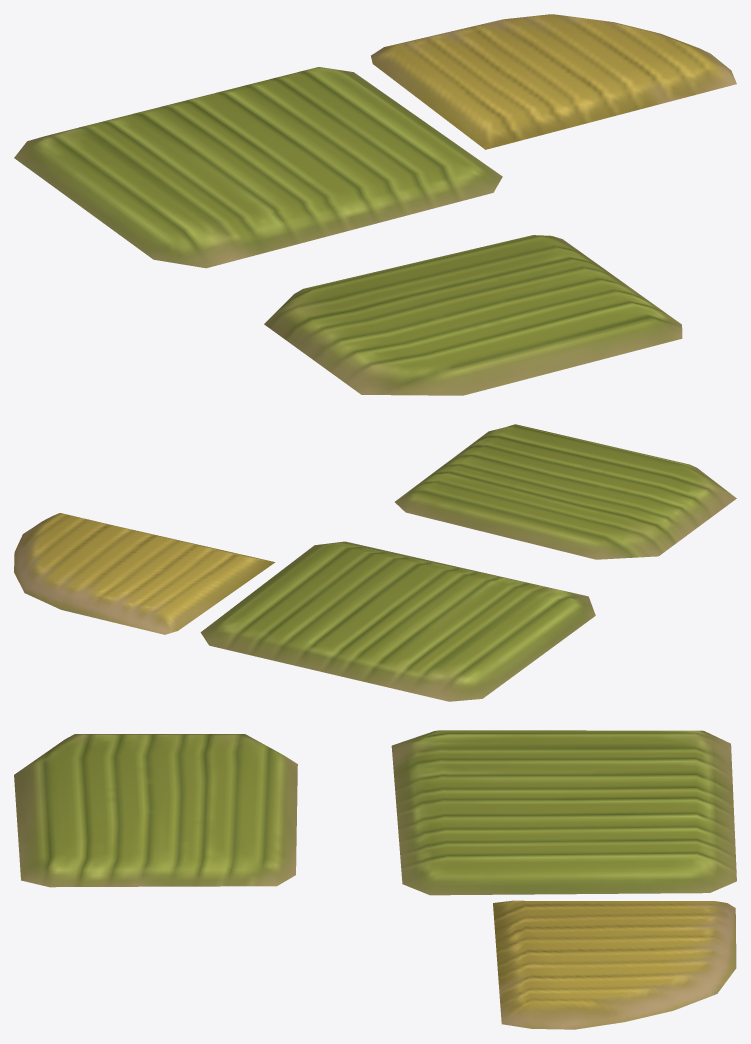
File: field_ground_0017.fbx
The picture shows the model from 3 angles, top to bottom: view 1: azimuth 30°, elevation 25°; view 2: azimuth 150°, elevation 25°; view 3: azimuth 270°, elevation 25°; orthographic projection. The views are drawn at different scales.
Parts seen in each view (by area): view 1: field_ground_0017; view 2: field_ground_0017; view 3: field_ground_0017.
Boxes of the visible parts, x1,y1,x2,y2 form: field_ground_0017: [14, 14, 736, 395]; field_ground_0017: [14, 424, 736, 701]; field_ground_0017: [14, 730, 736, 1029].
Size of the model in its own units: 370 by 9.2 by 379.
